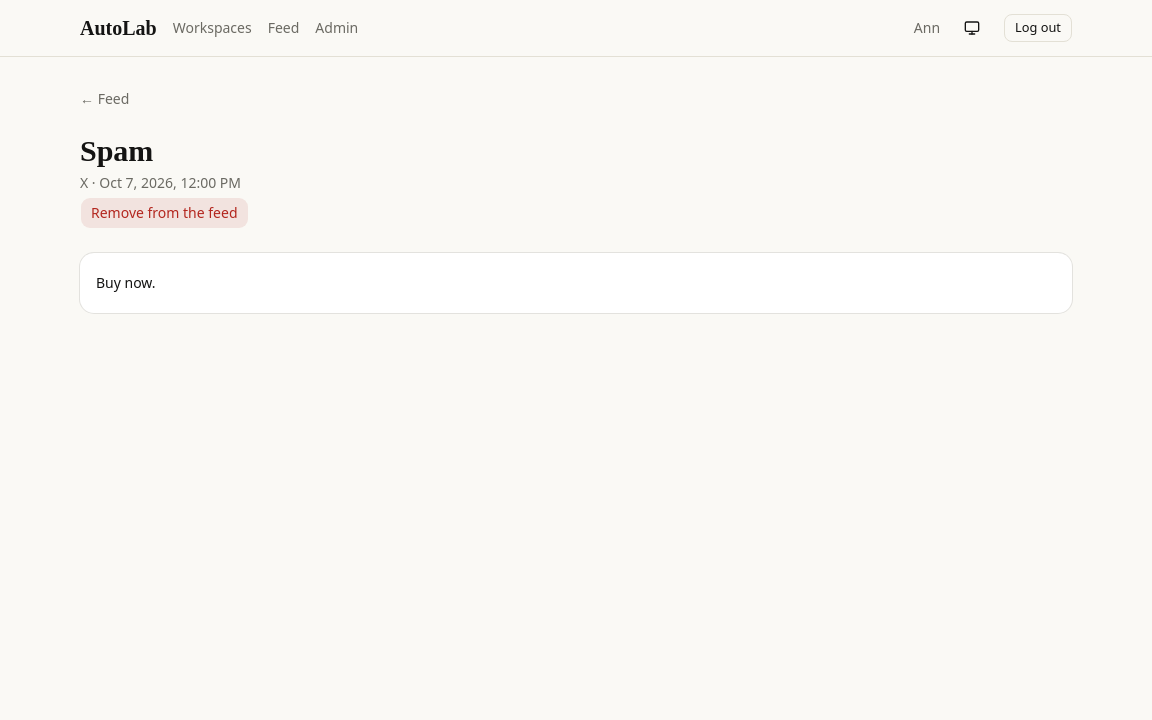
Test: an admin removes a publication from the feed
The width and height of the screenshot is (1152, 720).
What coordinates should you click on to do the following:
click the button "Remove from the feed"
I would click on:
 (164, 213)
Its box is [80,197,248,229].
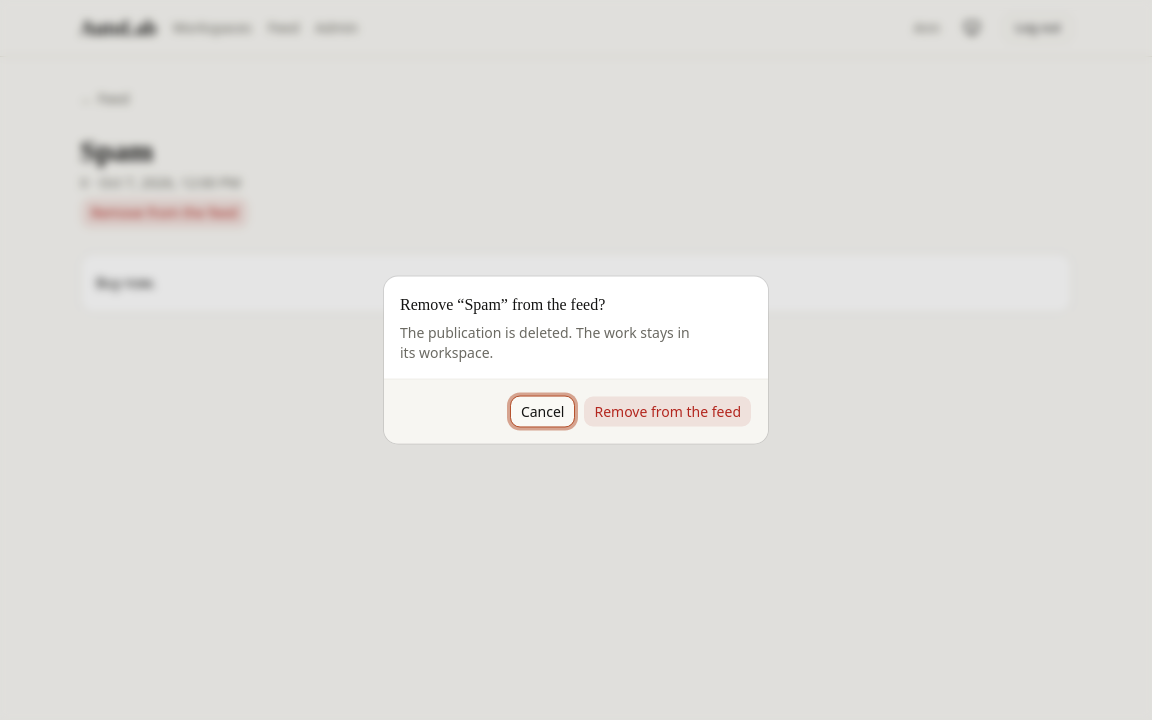
What coordinates should you click on to do the following:
click the button "Remove from the feed"
I would click on:
 (668, 412)
Its box is [584,396,752,428].
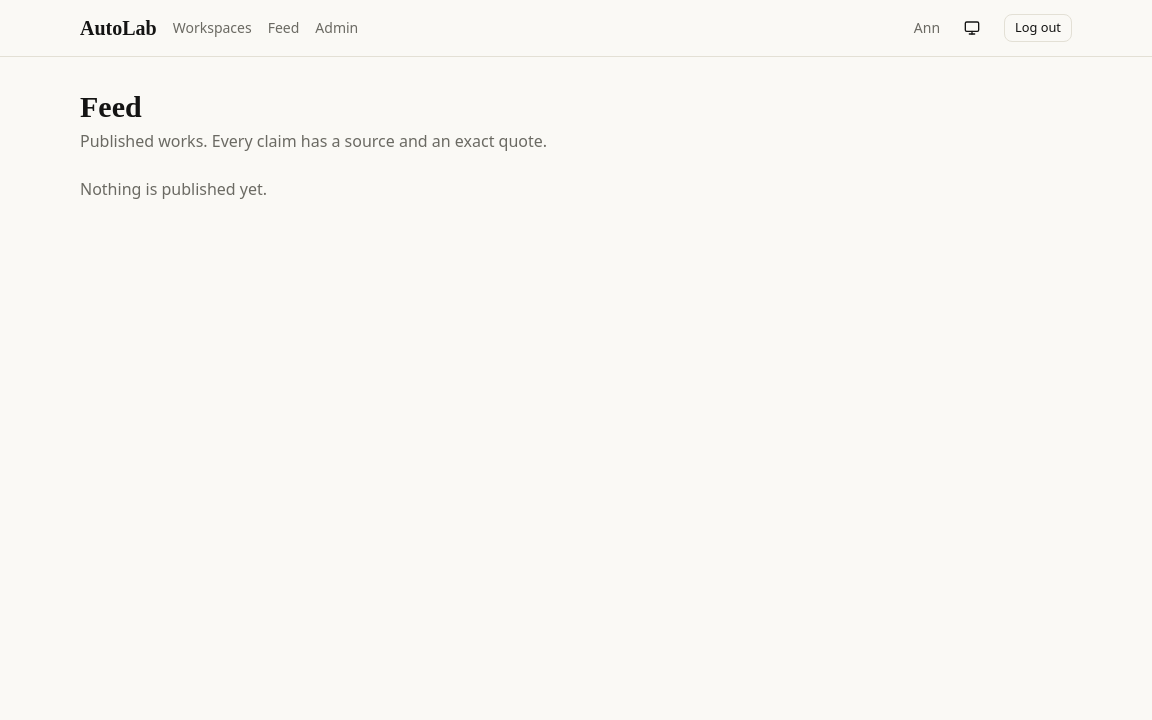
Expected: the text "Nothing is published yet." is shown, [80,178,267,200]
